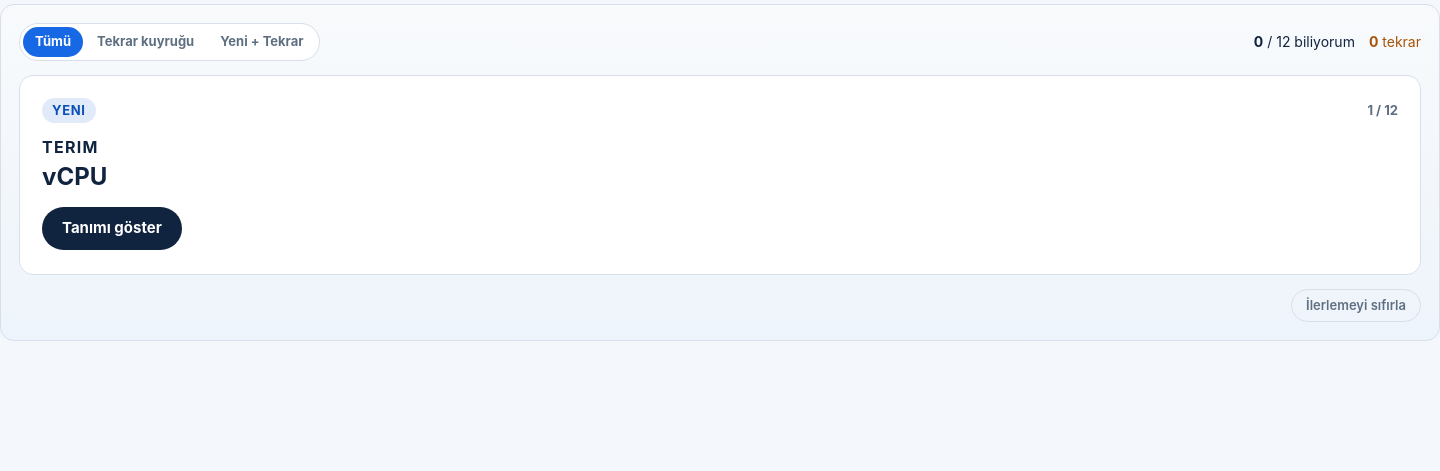
advances in all cards mode and allows leaving an empty repeat queue
Click the button with test id "flashcard-reveal".
click(112, 228)  # box [42, 207, 182, 250]
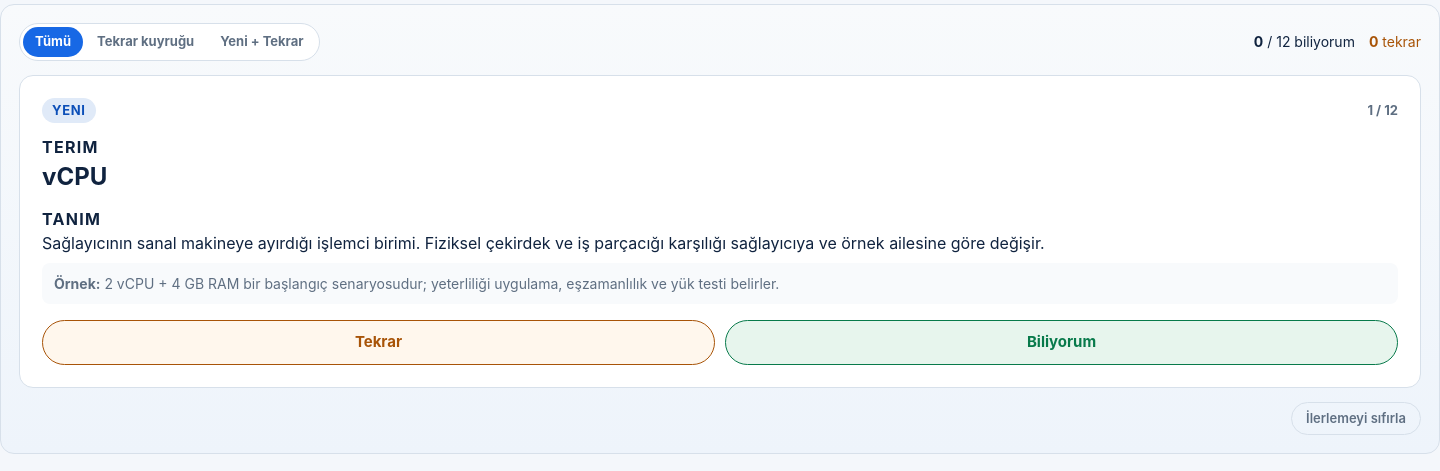
Click the button with test id "flashcard-mark-known".
click(1062, 342)  # box [725, 320, 1398, 364]
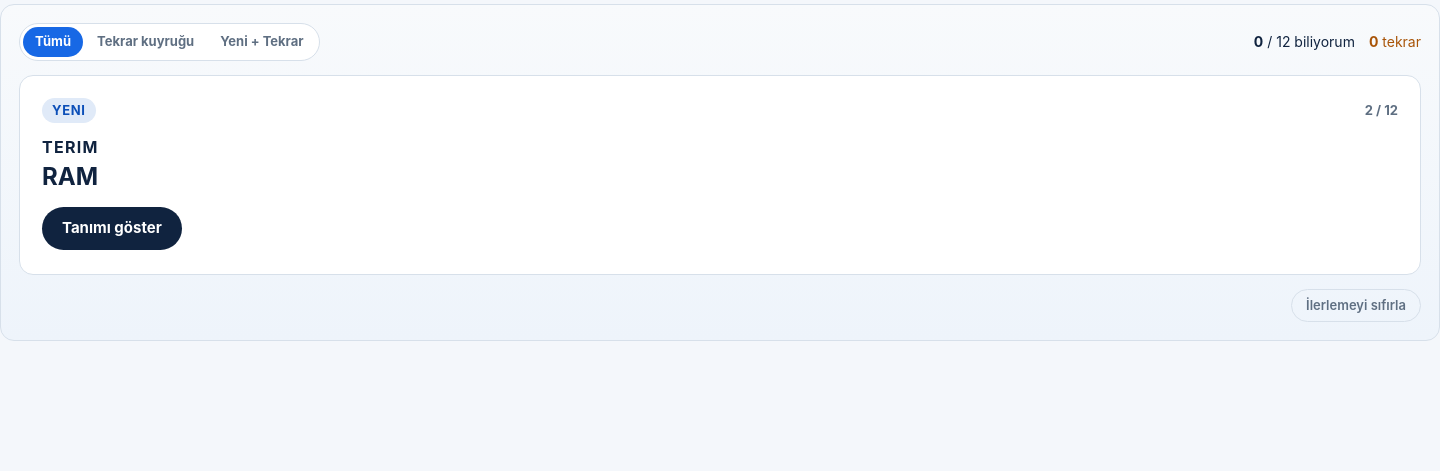
Now the heading "vCPU" no longer shows "vCPU"
Click the button with test id "flashcard-filter-repeat".
click(146, 42)  # box [85, 27, 206, 56]
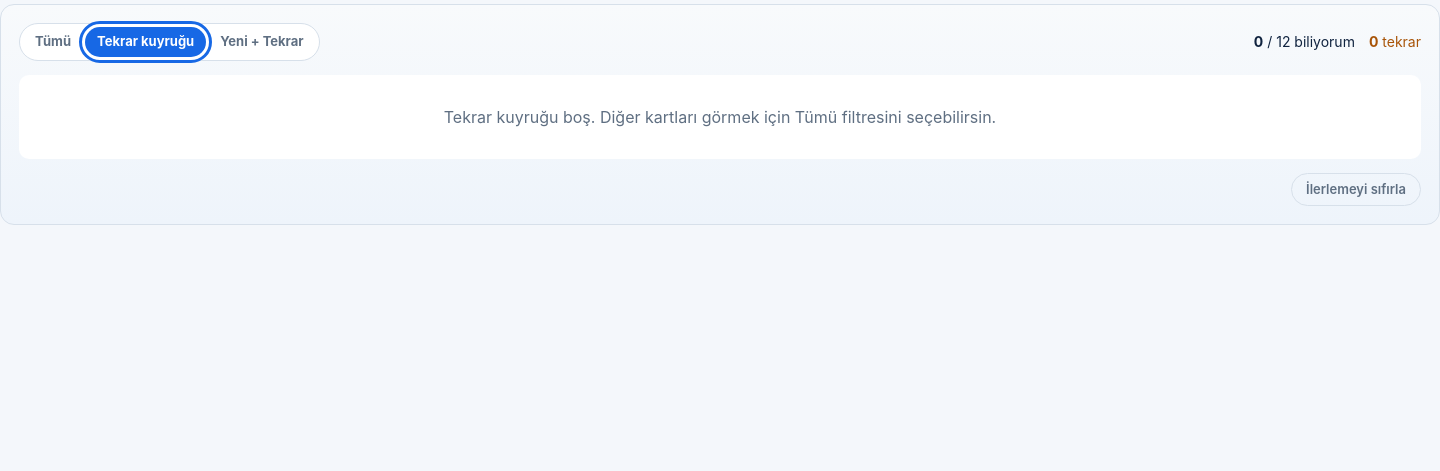
Now the text "Tekrar kuyruğu boş. Diğer kartları görmek için Tümü filtresini seçebilirsin." is shown, box [19, 74, 1421, 158]
Click the button with test id "flashcard-filter-all".
click(53, 42)  # box [23, 27, 83, 56]
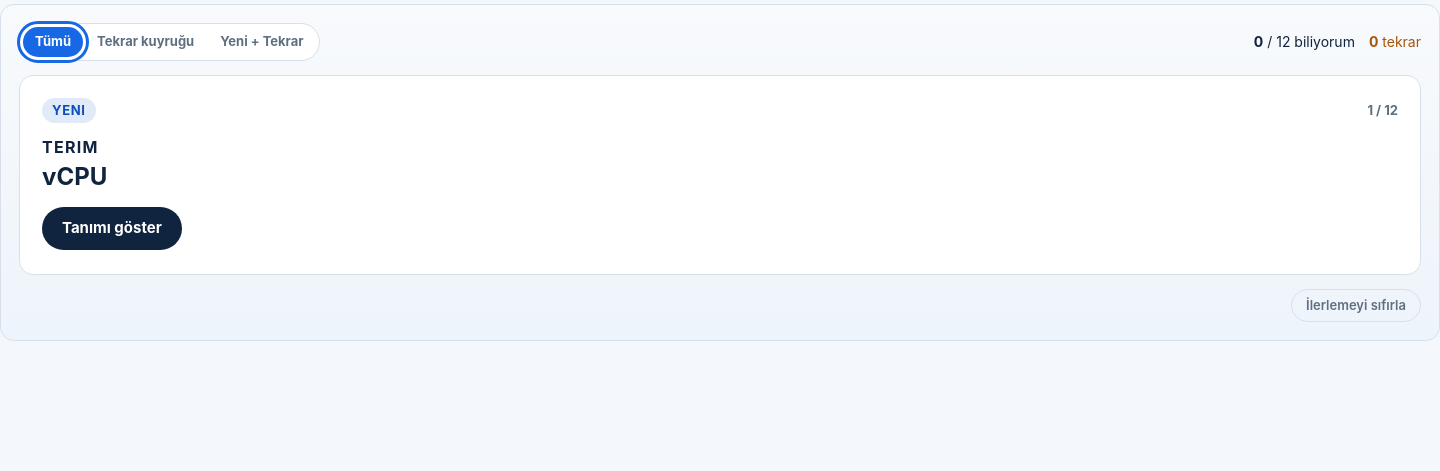
Now the heading reads "vCPU", box [42, 162, 107, 191]
